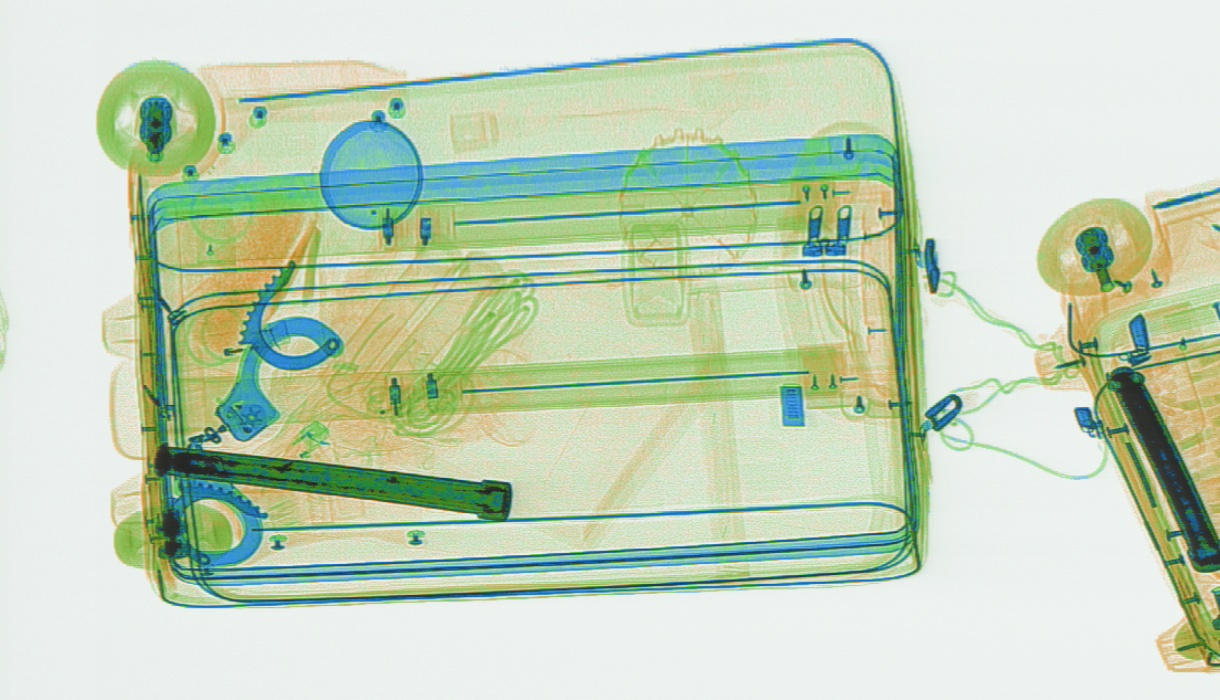handcuffs: (161, 258, 344, 567)
lighter: (203, 418, 330, 505)
